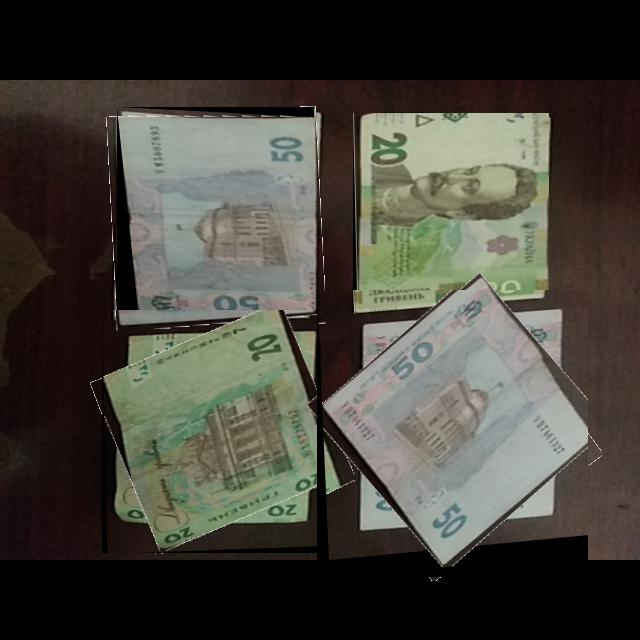20uah: (103, 310, 328, 553), (357, 113, 550, 316)
50uah: (321, 290, 589, 570), (119, 116, 315, 326)
